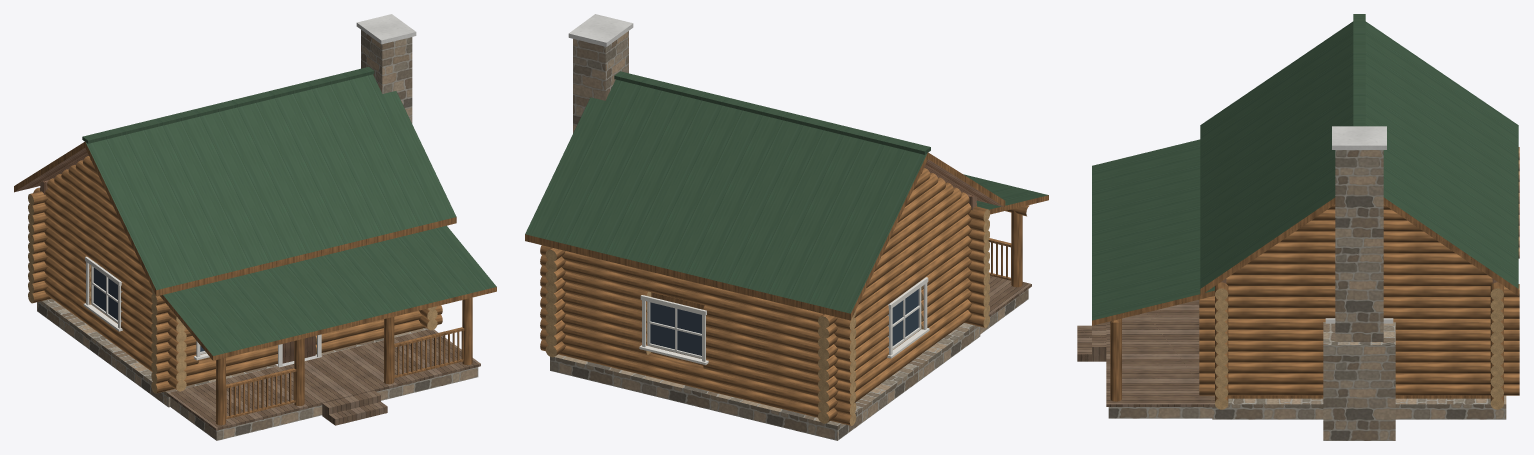
The model's file is log-cabin.glb.
3 views of the same model, side by side, from view 1: azimuth 30°, elevation 25°; view 2: azimuth 150°, elevation 25°; view 3: azimuth 270°, elevation 25° (orthographic). The views are drawn at different scales.
Visible parts, largest first — view 1: Log_Cabin; view 2: Log_Cabin; view 3: Log_Cabin.
Boxes of the visible parts, box(x1,y1,x2,y2) form: Log_Cabin: box(14, 14, 496, 440); Log_Cabin: box(525, 14, 1048, 440); Log_Cabin: box(1077, 14, 1519, 440).
Bounding box in the file's own units: 8.62 × 6.72 × 9.17.
11 materials, 8 textured.
